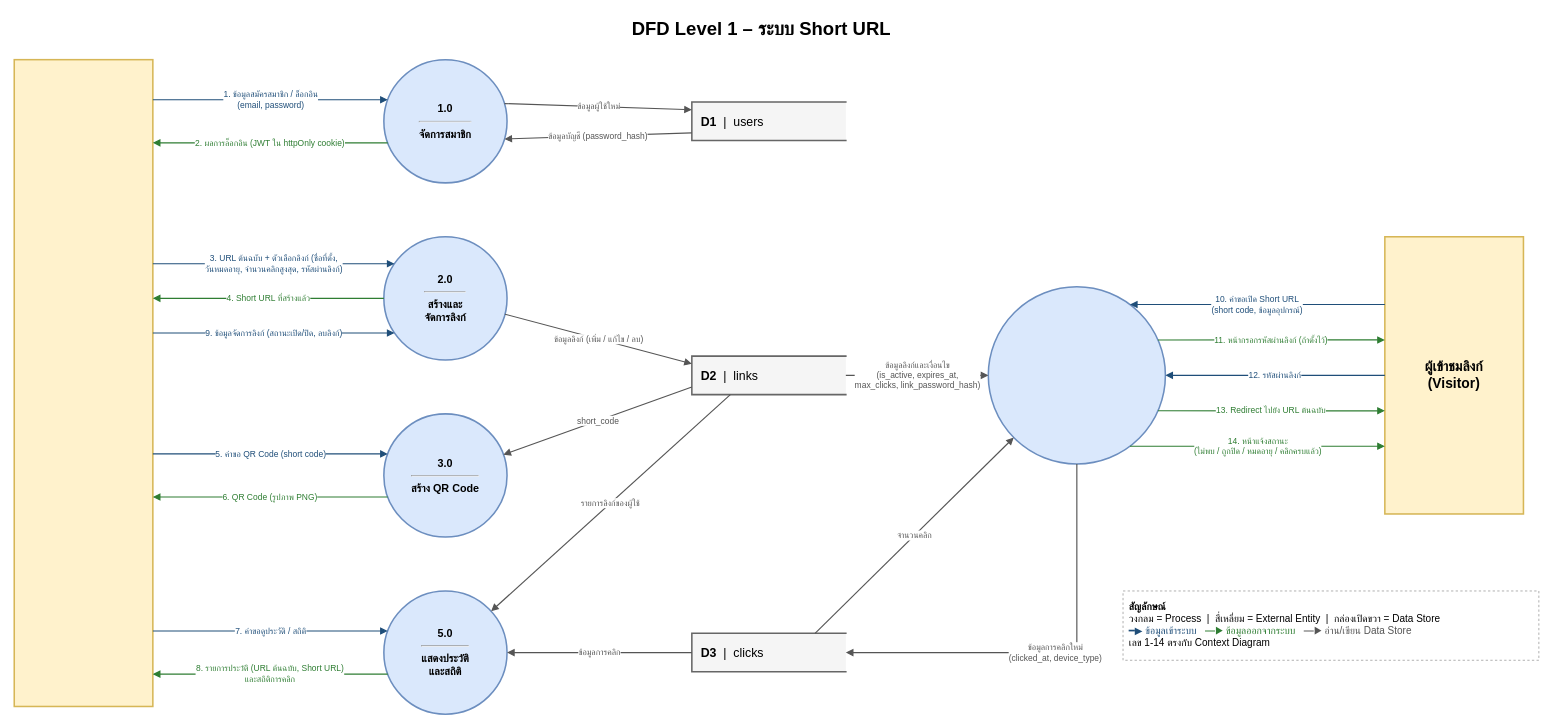
Image size: 1552x728. Some labels were removed from this diagram. Here are the shapes that lost their labels. From the top down, the centre of each, then its label:
At [83,383]: "เจ้าของลิงก์ (User)".
At [1076,375]: "4.0 ตรวจสอบสิทธิ์ และ Redirect".
